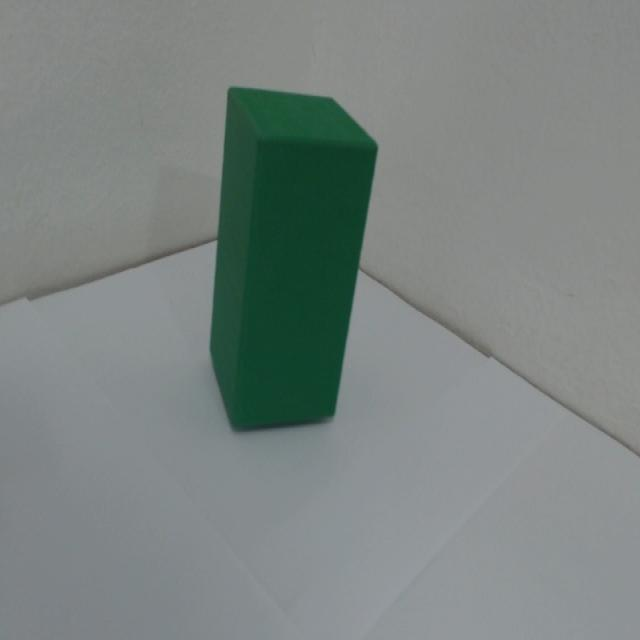cube: (195, 48, 390, 491)
